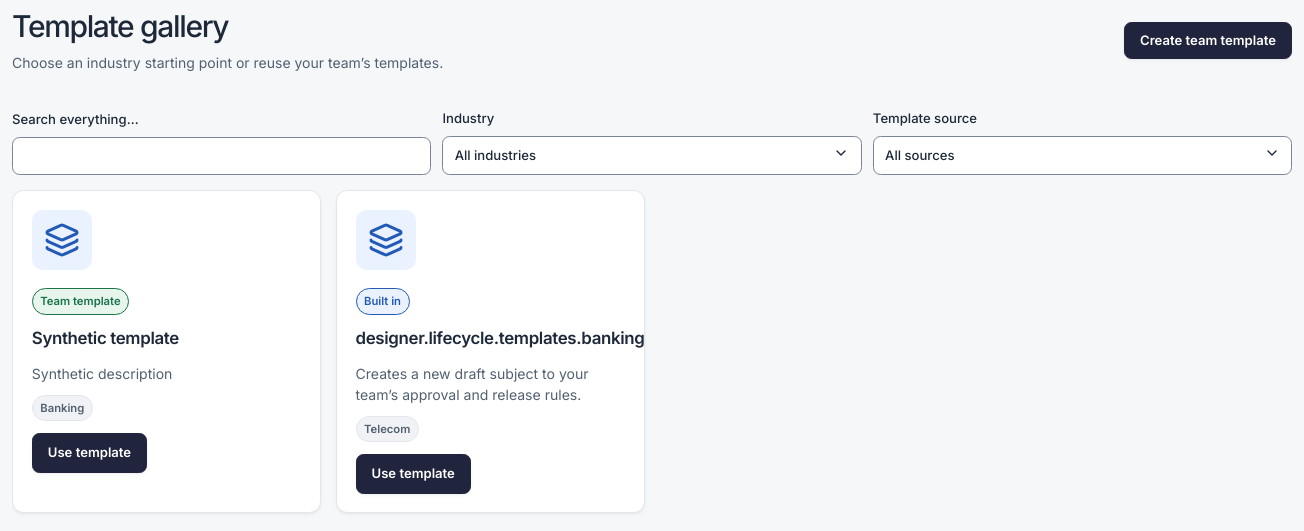
filters templates by name, industry and source
The width and height of the screenshot is (1304, 531).
Expected: the heading "Synthetic template" is shown, [32,328,179,348]
Type "absent" into the field labelled "Search everything…" at (222, 156), box [12,137,431,175]
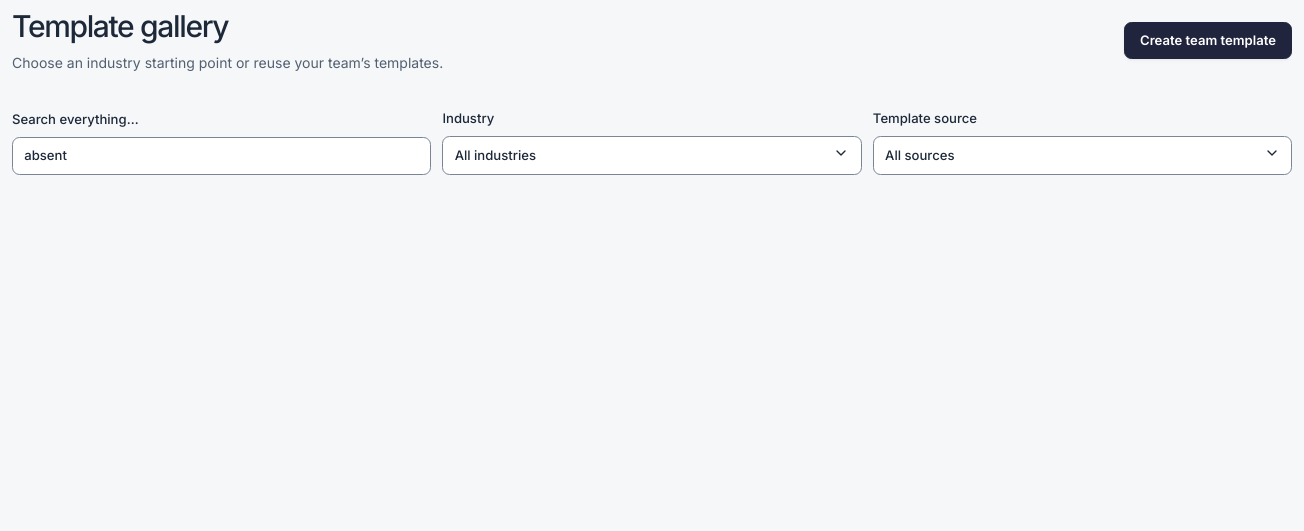
Expected: the heading "Synthetic template" is gone
Clear the field labelled "Search everything…" at (222, 156), box [12,137,431,175]
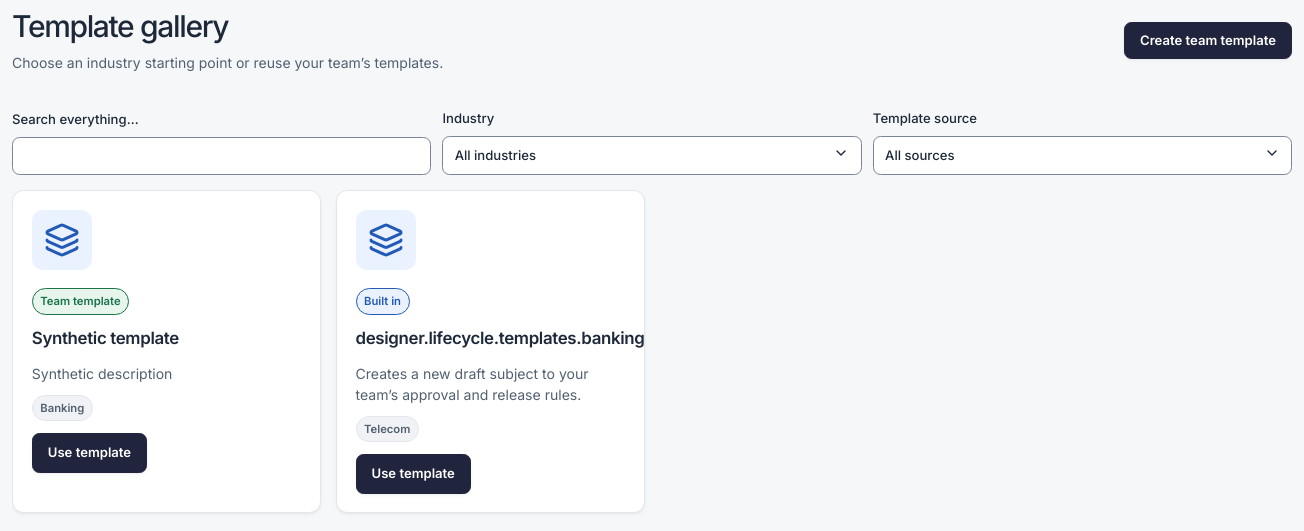
Click the dropdown named "Industry" at (495, 155), box [442,136,862,175]
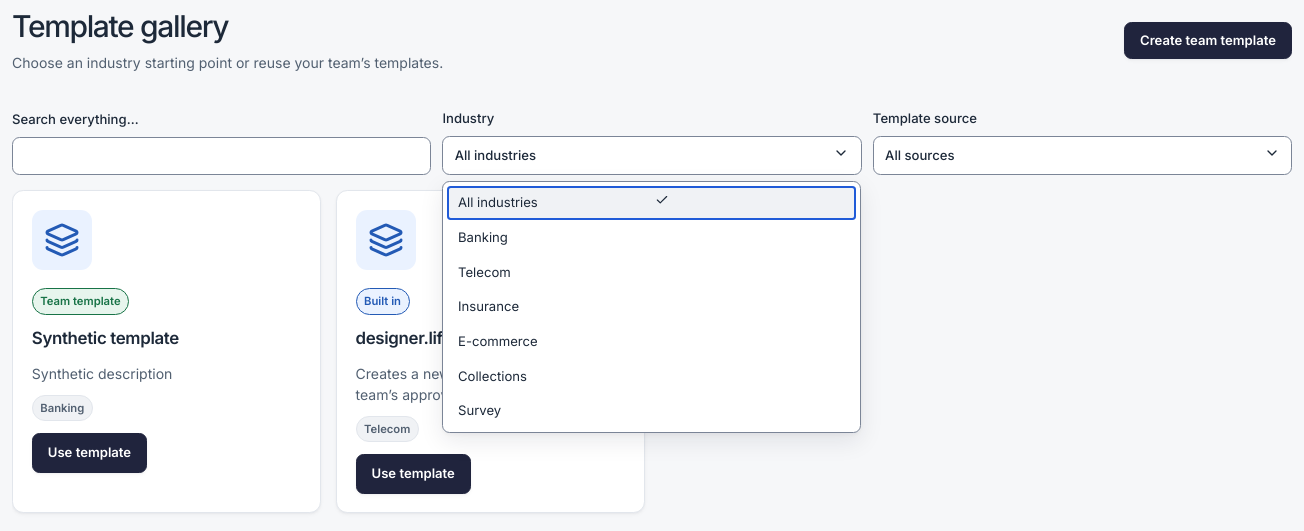
Click the option "Banking" at (483, 237), box [458,229,508,245]
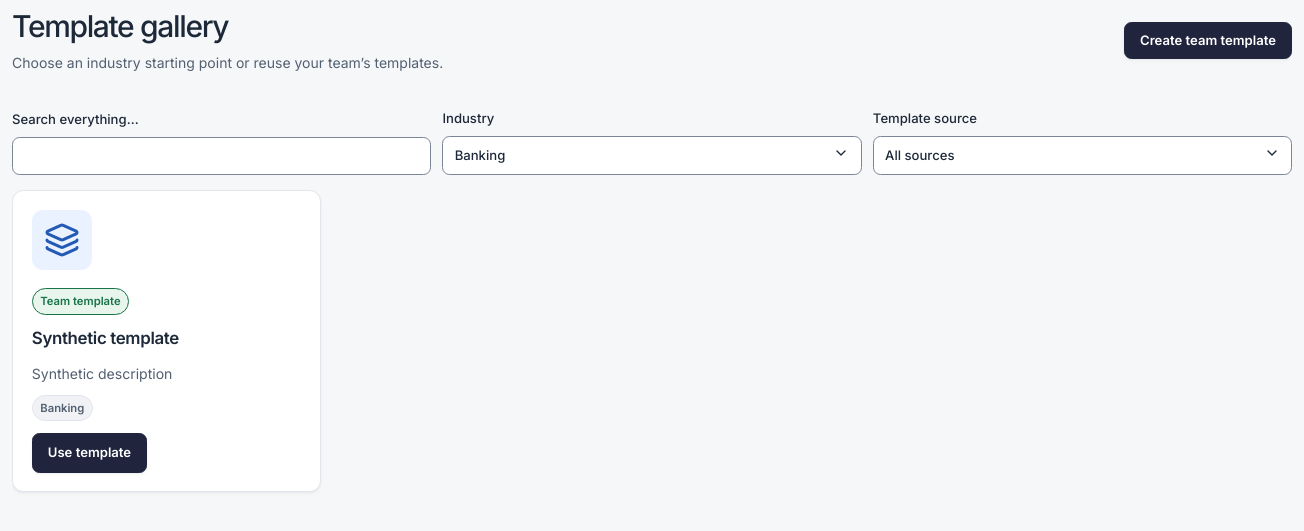
Expected: the number of buttons "Use template" is 1, [32,432,147,472]
Click the dropdown named "Template source" at (920, 155), box [873,136,1292,175]
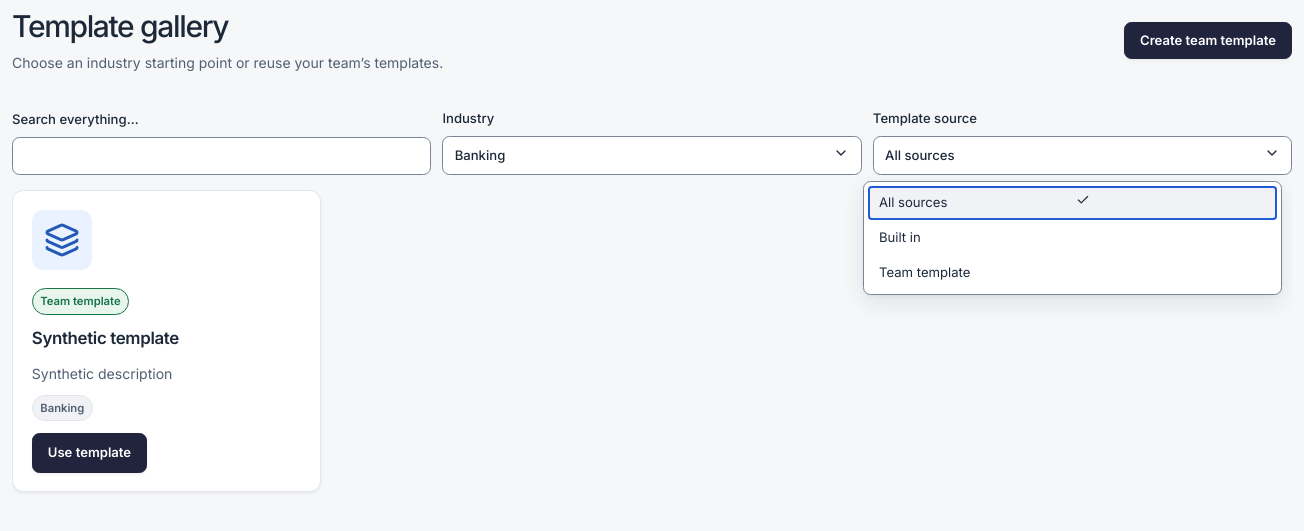
Click the option "Built in" at (900, 237), box [879,229,921,245]
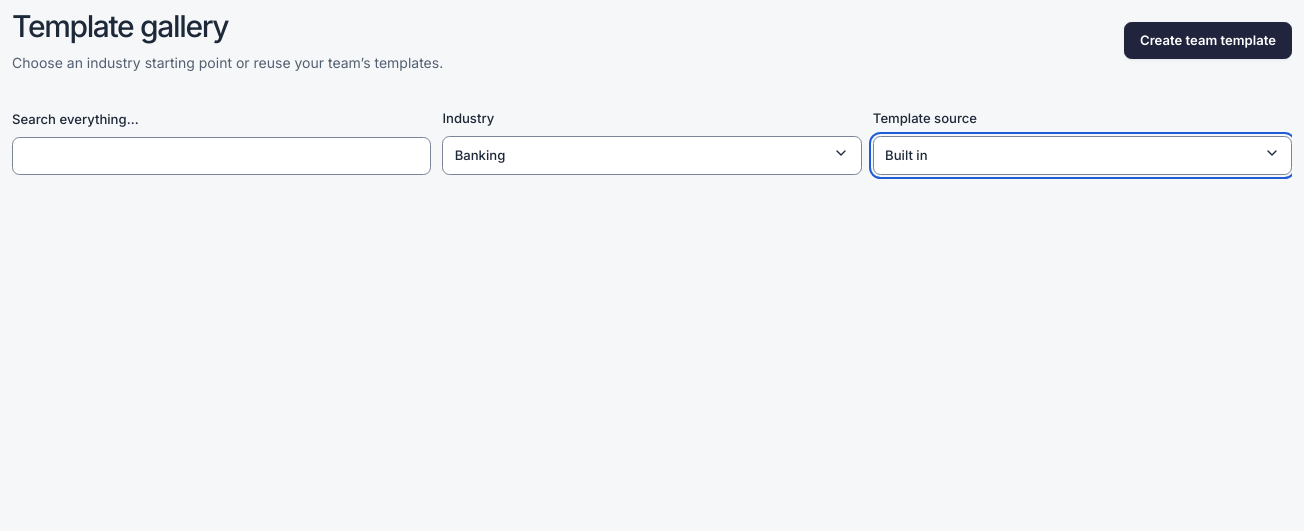
Expected: the button "Use template" is gone
